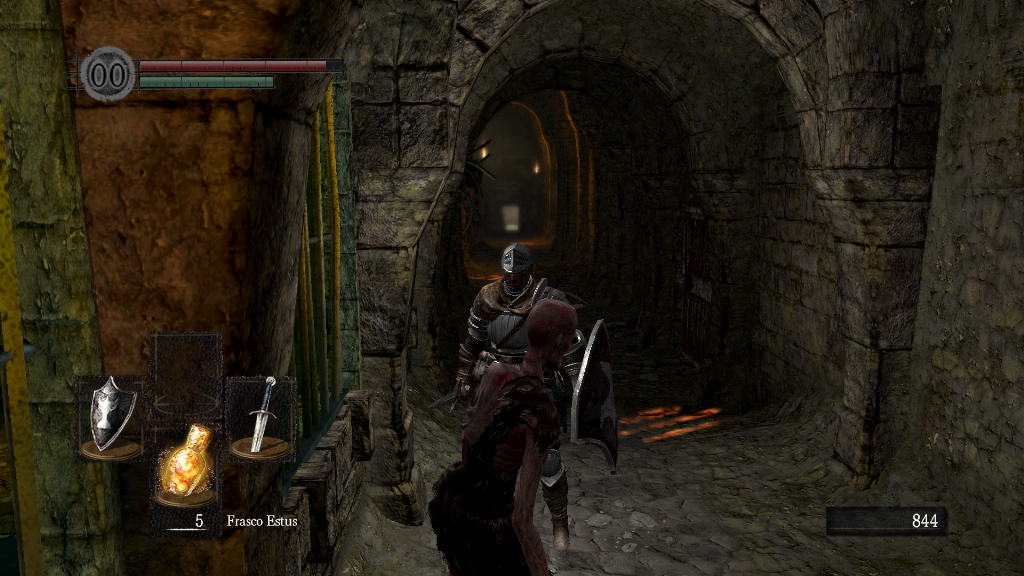health: (138, 58, 343, 71)
hollow: (425, 296, 579, 576)
humanity: (80, 45, 136, 102)
player: (427, 244, 620, 552)
souls: (825, 506, 945, 536)
stamina: (138, 74, 274, 88)
